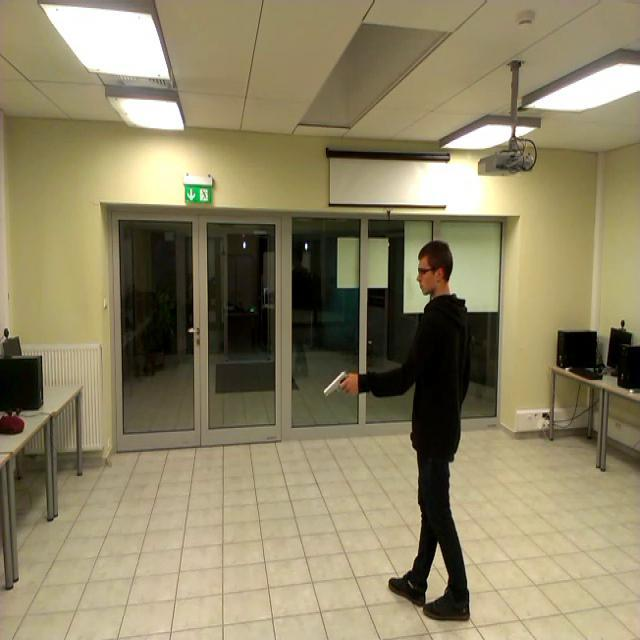Gun: (324, 370, 356, 396)
